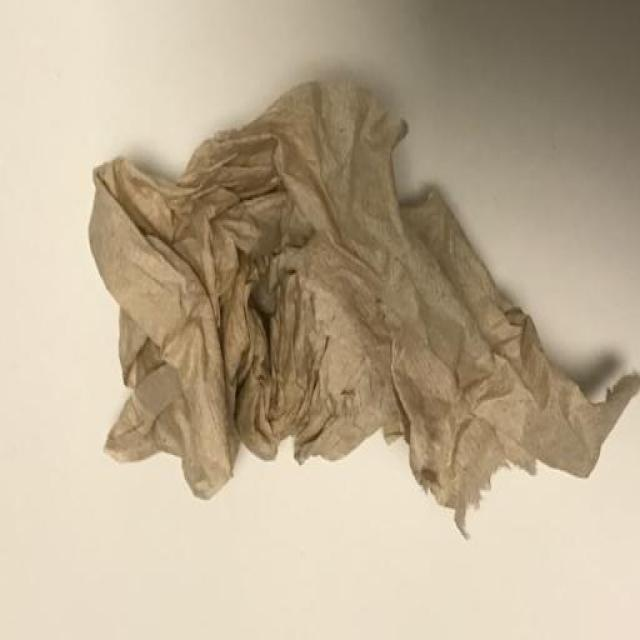Random Trash: (86, 75, 640, 530)
